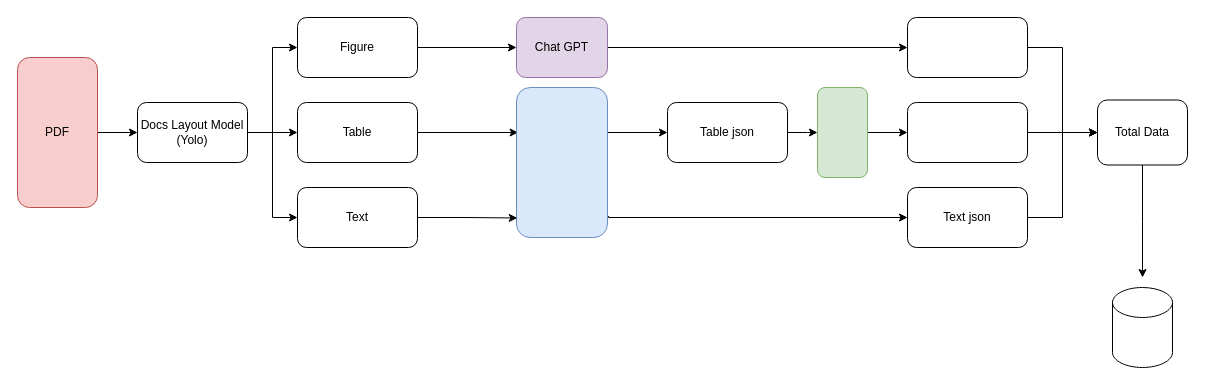
Some shapes in this 1205 by 385 pixel diagram are drawn without their labels. The centre of each missing label's shape, as x and y in pixels:
"Clova OCR Upstage parser" belongs at (x=562, y=162).
"Clova X" belongs at (x=842, y=132).
"Figure json with caption" belongs at (x=967, y=47).
"Table json with caption" belongs at (x=967, y=132).
"Vector DB" belongs at (x=1142, y=327).
